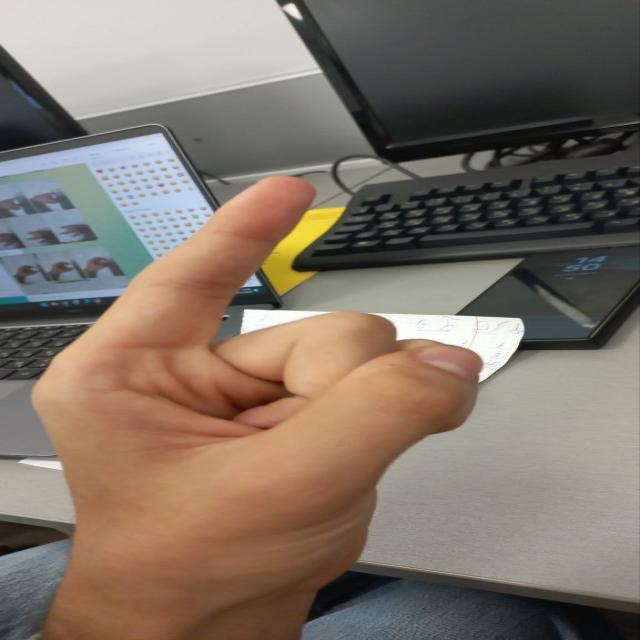z: (26, 177, 499, 558)
